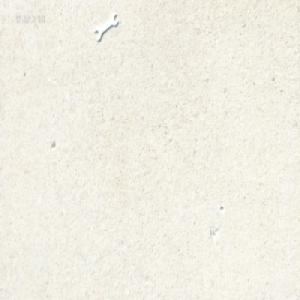Wrench: (94, 16, 117, 45)
